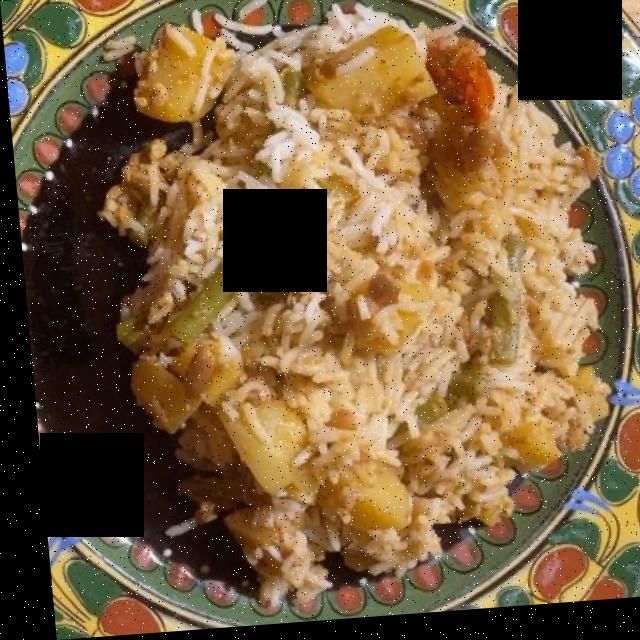baked-potato: (91, 27, 434, 546)
french-beans: (111, 186, 292, 339)
rice-basmati: (80, 7, 590, 578)
